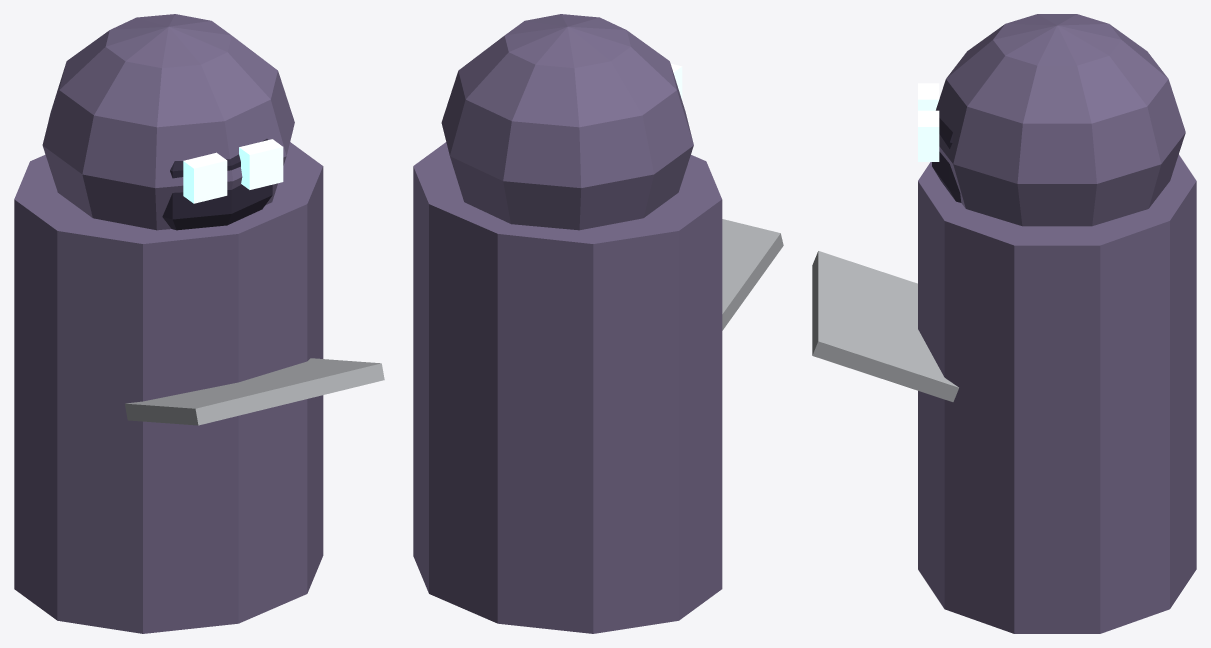
Rendered from shade.glb.
The picture shows the model from 3 angles, left to right: view 1: azimuth 30°, elevation 25°; view 2: azimuth 150°, elevation 25°; view 3: azimuth 270°, elevation 25°; orthographic projection.
Visible parts, largest first — view 1: BodyMesh, BodyGlow; view 2: BodyMesh; view 3: BodyMesh, BodyGlow.
Boxes of the visible parts, bbox=[...] form: BodyMesh: bbox=[14, 14, 384, 633]; BodyGlow: bbox=[183, 139, 283, 203]; BodyMesh: bbox=[413, 14, 783, 633]; BodyMesh: bbox=[812, 14, 1196, 633]; BodyGlow: bbox=[918, 83, 939, 161].
Size of the model in its own units: 0.2853 by 0.56 by 0.3585.
